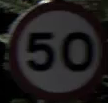Speed limit: (11, 7, 94, 89)
